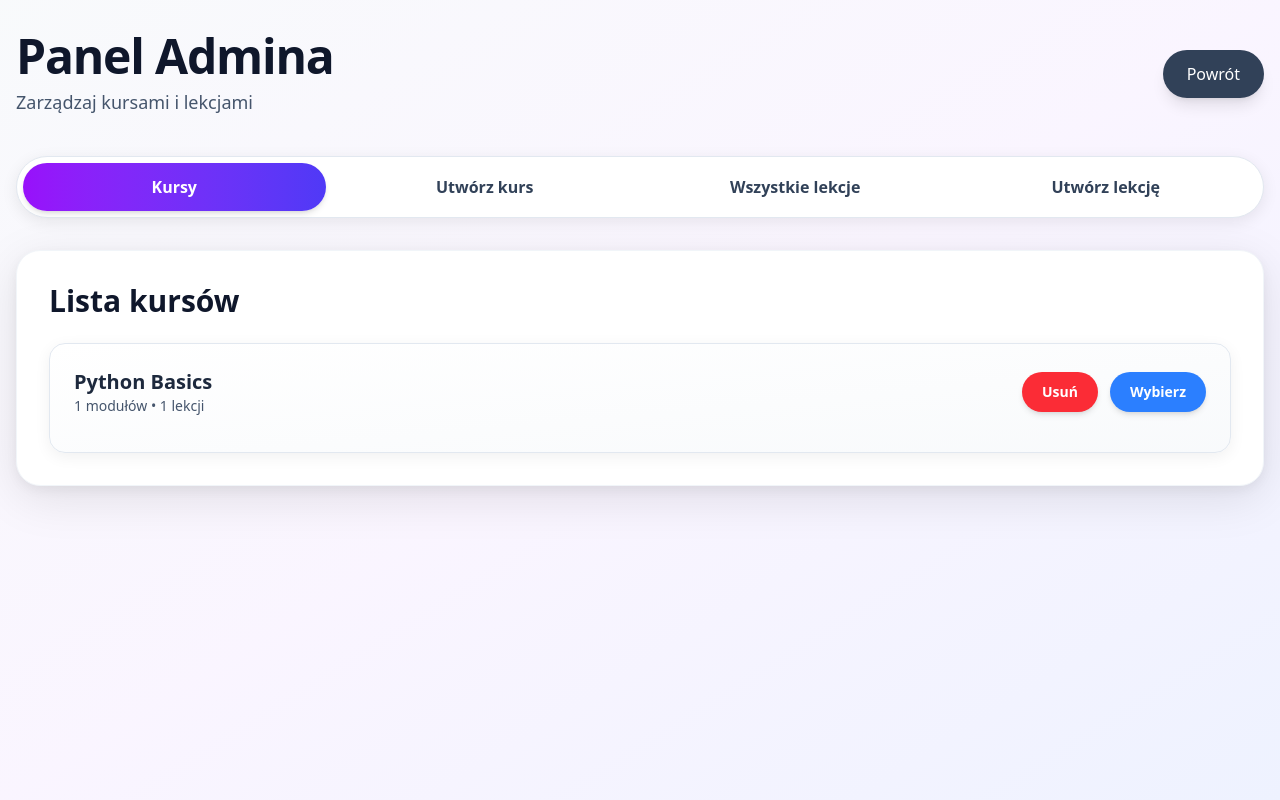
Test: AdminPanel › Tab Navigation › switches to create-course tab
The image size is (1280, 800).
Expected: the heading "Python Basics" is shown, top-left (74, 368), bottom-right (212, 396)
Click the button "Utwórz kurs" at (485, 187), box top-left (334, 163), bottom-right (636, 211)
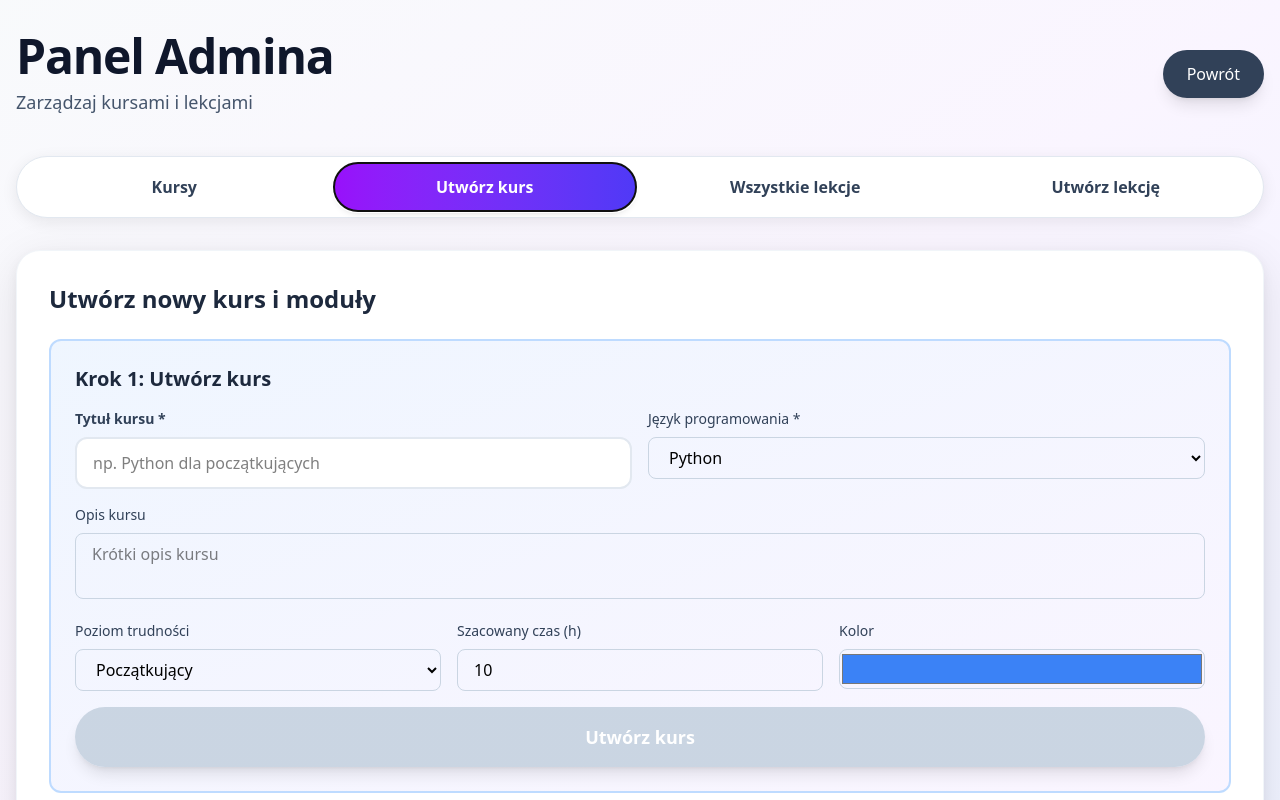
Now the heading "Utwórz nowy kurs i moduły" is shown, box top-left (49, 282), bottom-right (376, 315)
Now the heading "Krok 1: Utwórz kurs" is shown, box top-left (75, 365), bottom-right (271, 392)
